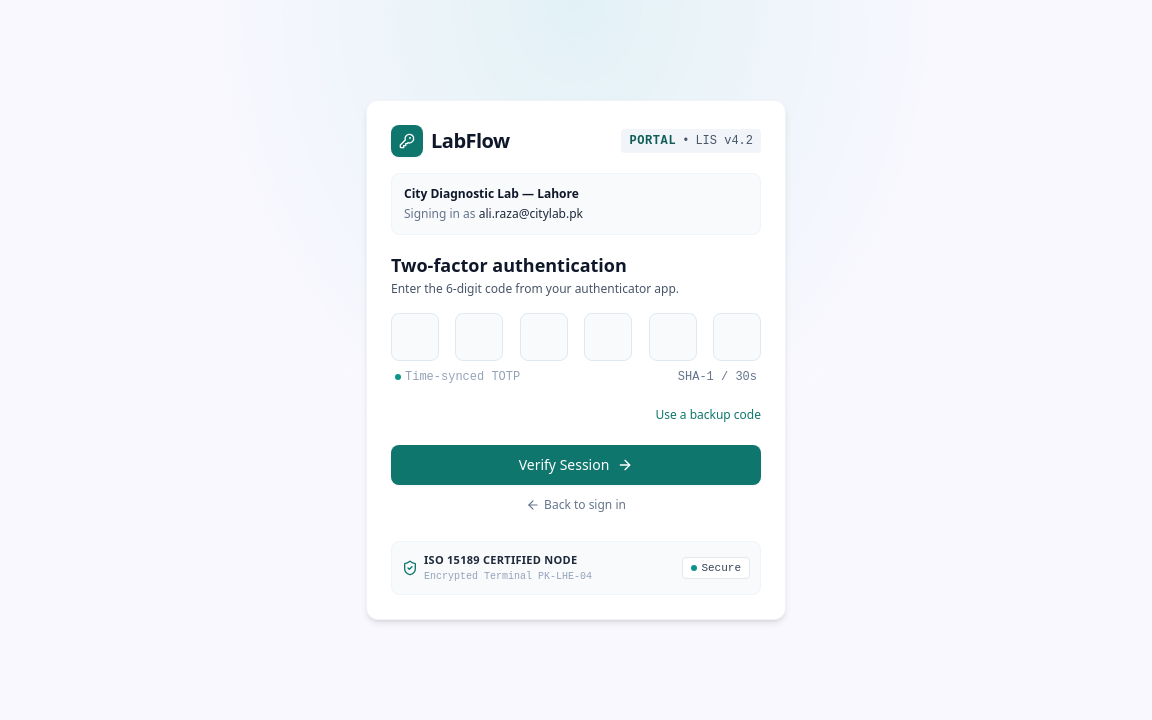
Test: Screen 02: Two-Factor Authentication (02-two-factor-auth.html & Doc 07 §5.1) › Backup Code Mode Toggle › toggles to backup code mode and allows entering alphanumeric backup code
Click the button "Use a backup code": (708, 415) x1=655 y1=407 x2=761 y2=423
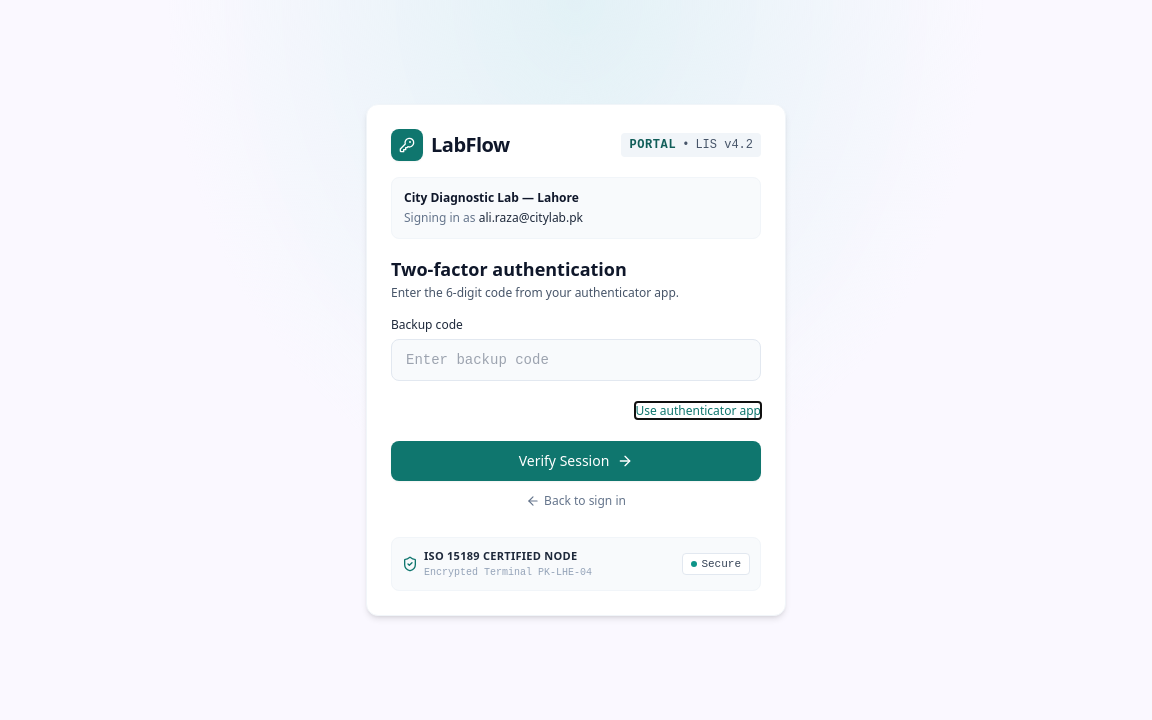
Expected: the field labelled "Backup code" is shown
Note: Typing backup code
In the field labelled "Backup code": (576, 360) x1=391 y1=339 x2=761 y2=381, type "BK-9842-X"
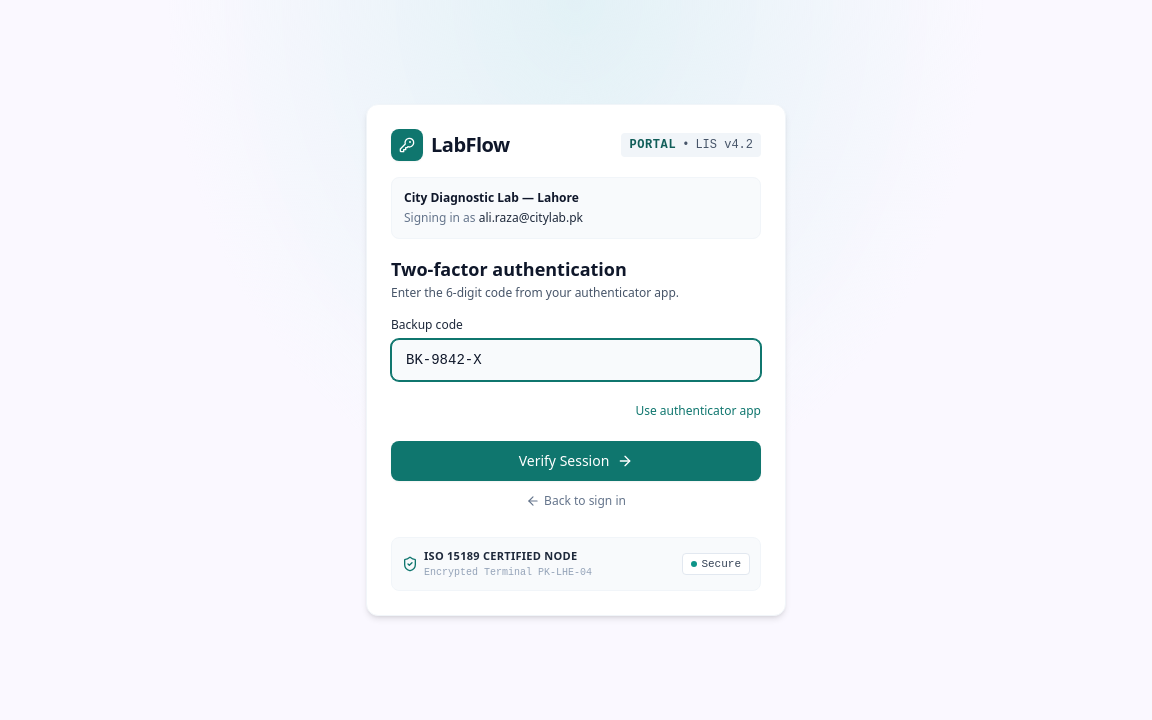
Click the button "Use authenticator app": (698, 411) x1=635 y1=403 x2=761 y2=419
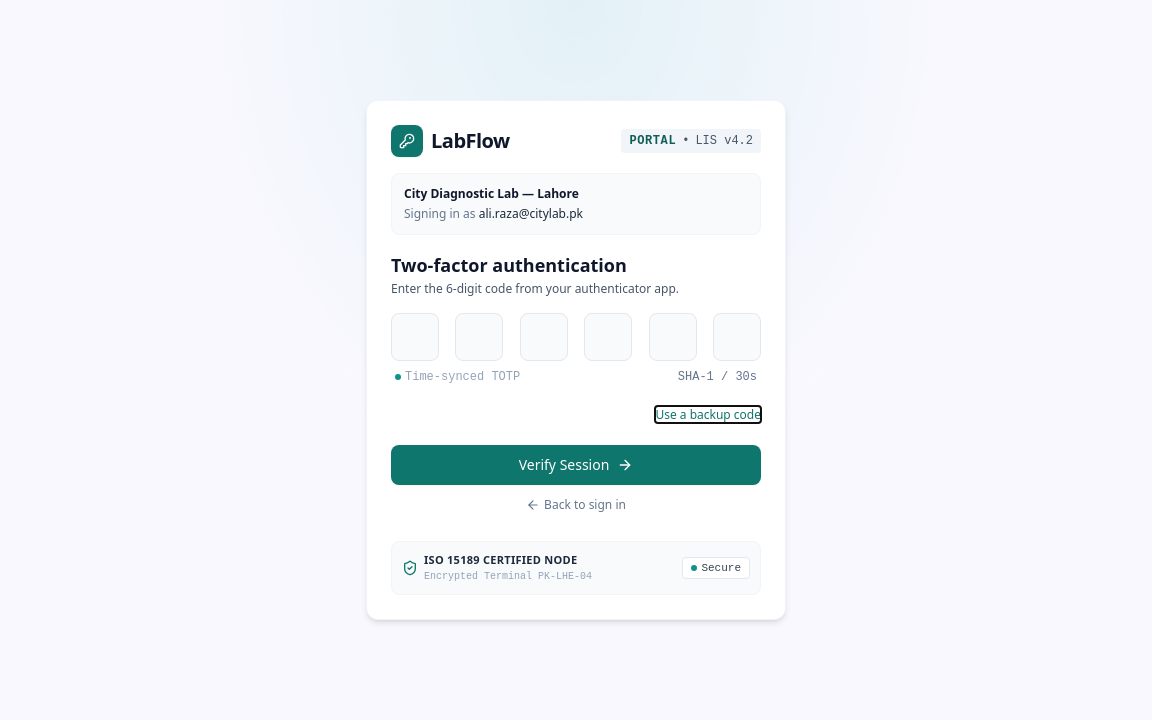
Expected: the field named "Digit 1" is shown, x1=391 y1=313 x2=439 y2=361
